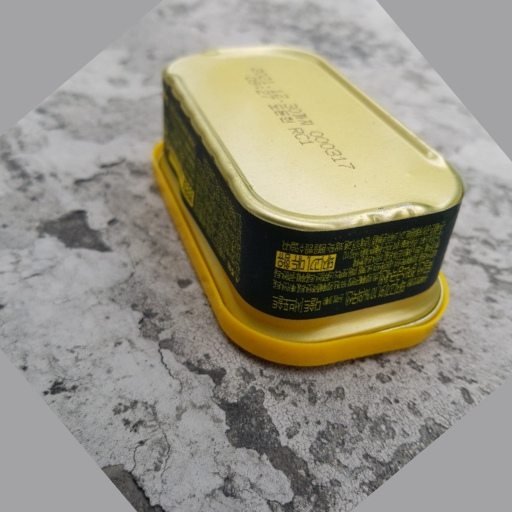Metal_2: (146, 44, 465, 368)
